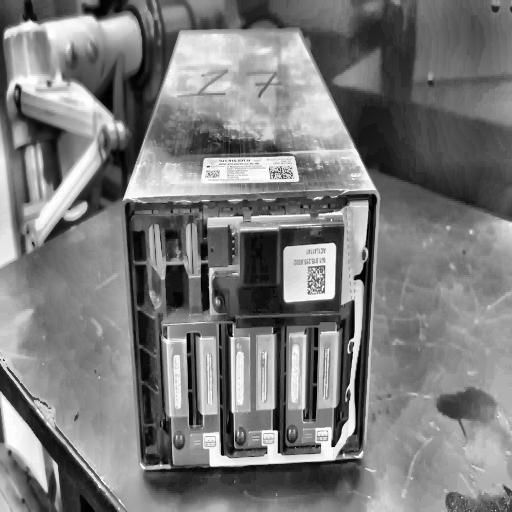battery_module: (122, 28, 381, 473)
